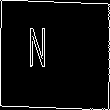N_S: (45, 29, 65, 81)
